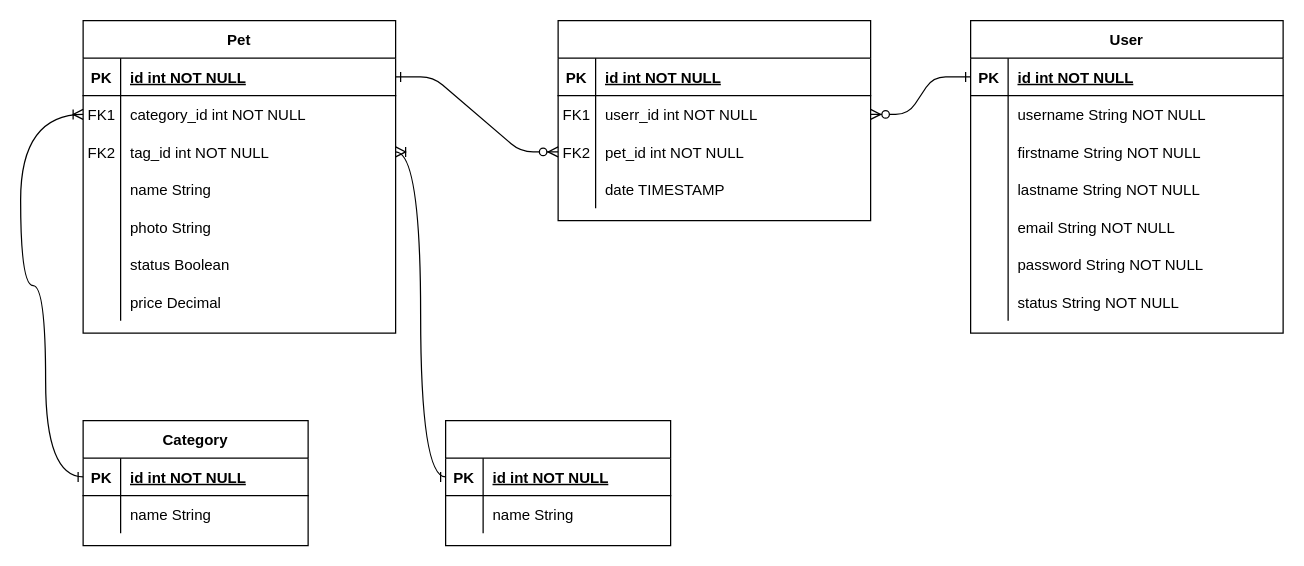
This 1304x566 diagram has some shape labels left out. Each missing label, with the box of its shape:
Order: (557, 19, 871, 221)
Tag: (444, 419, 671, 546)
